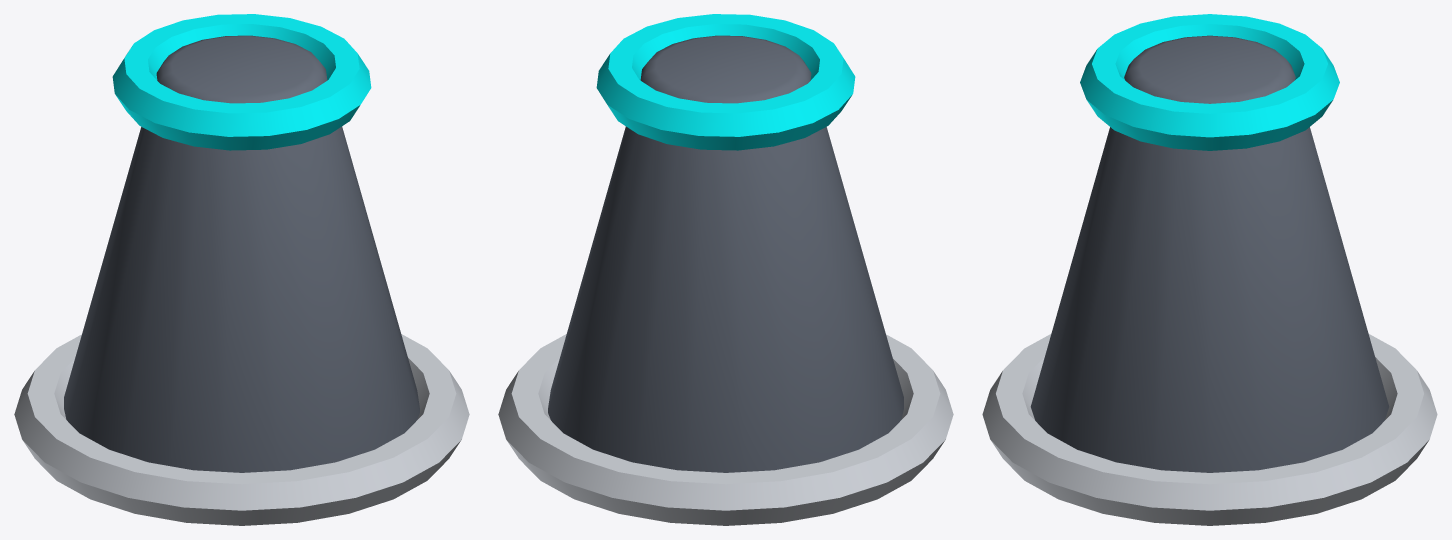
File: laser_injector.glb
3 views of the same model, side by side, from view 1: azimuth 30°, elevation 25°; view 2: azimuth 150°, elevation 25°; view 3: azimuth 270°, elevation 25° (orthographic).
Visible parts, largest first — view 1: Cone; view 2: Cone; view 3: Cone.
Part boxes in pixels (x1,y1,x2,y2): Cone: (14,14,469,525); Cone: (498,14,953,525); Cone: (982,14,1437,525).
Size of the model in its own units: 0.77 by 0.7046 by 0.77.
